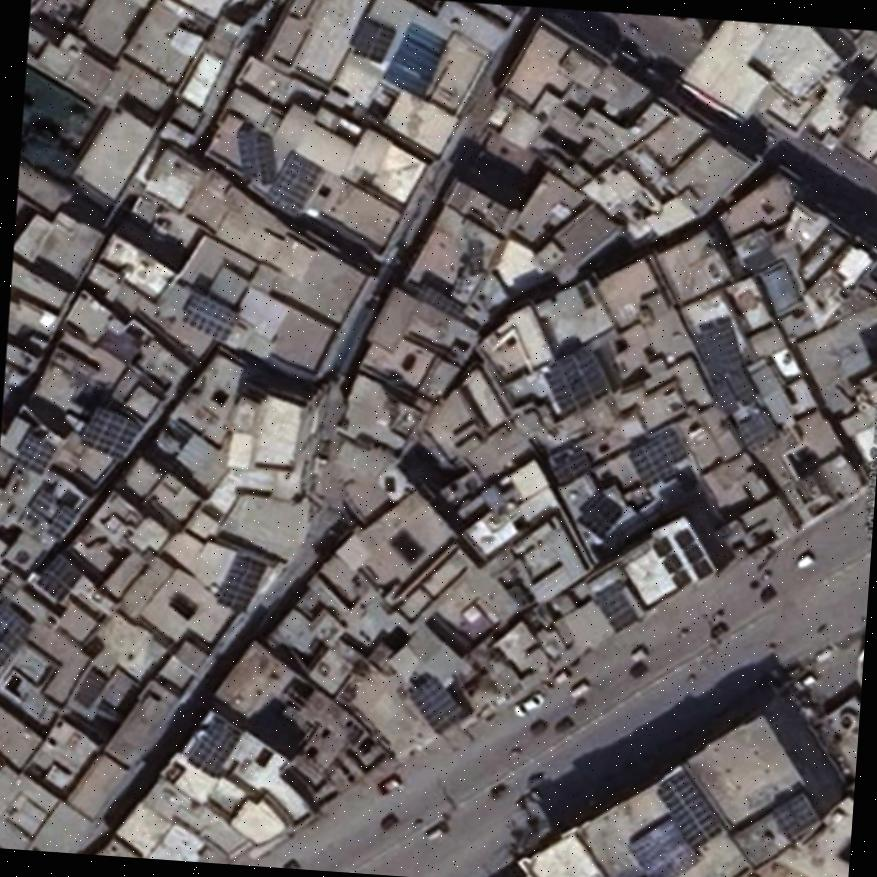Solarpanel: (654, 770, 721, 849), (543, 348, 608, 410), (264, 148, 319, 213), (186, 714, 240, 778), (627, 428, 685, 487), (180, 289, 240, 340), (78, 407, 136, 459), (695, 319, 741, 382), (410, 673, 459, 732), (217, 555, 265, 612), (771, 789, 819, 838), (34, 550, 80, 601), (709, 368, 757, 414), (576, 491, 621, 537), (594, 582, 637, 629), (0, 599, 29, 666), (653, 538, 690, 589), (351, 20, 393, 63), (673, 528, 709, 578), (14, 434, 56, 475), (549, 448, 587, 487), (738, 412, 778, 448), (45, 503, 72, 539), (25, 488, 55, 520)
